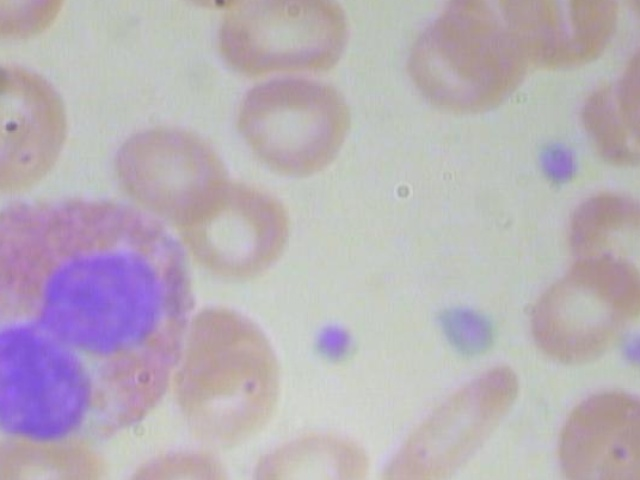Platelets: (425, 297, 508, 370), (303, 315, 367, 371), (526, 131, 584, 189), (616, 328, 640, 378)
RBC: (173, 299, 289, 449), (381, 362, 526, 480), (231, 76, 365, 186), (521, 251, 640, 372), (213, 0, 354, 92), (107, 119, 235, 220), (180, 179, 307, 280), (401, 14, 528, 115), (247, 424, 374, 480), (0, 429, 107, 480), (106, 444, 239, 480)
WBC: (0, 186, 214, 457)
